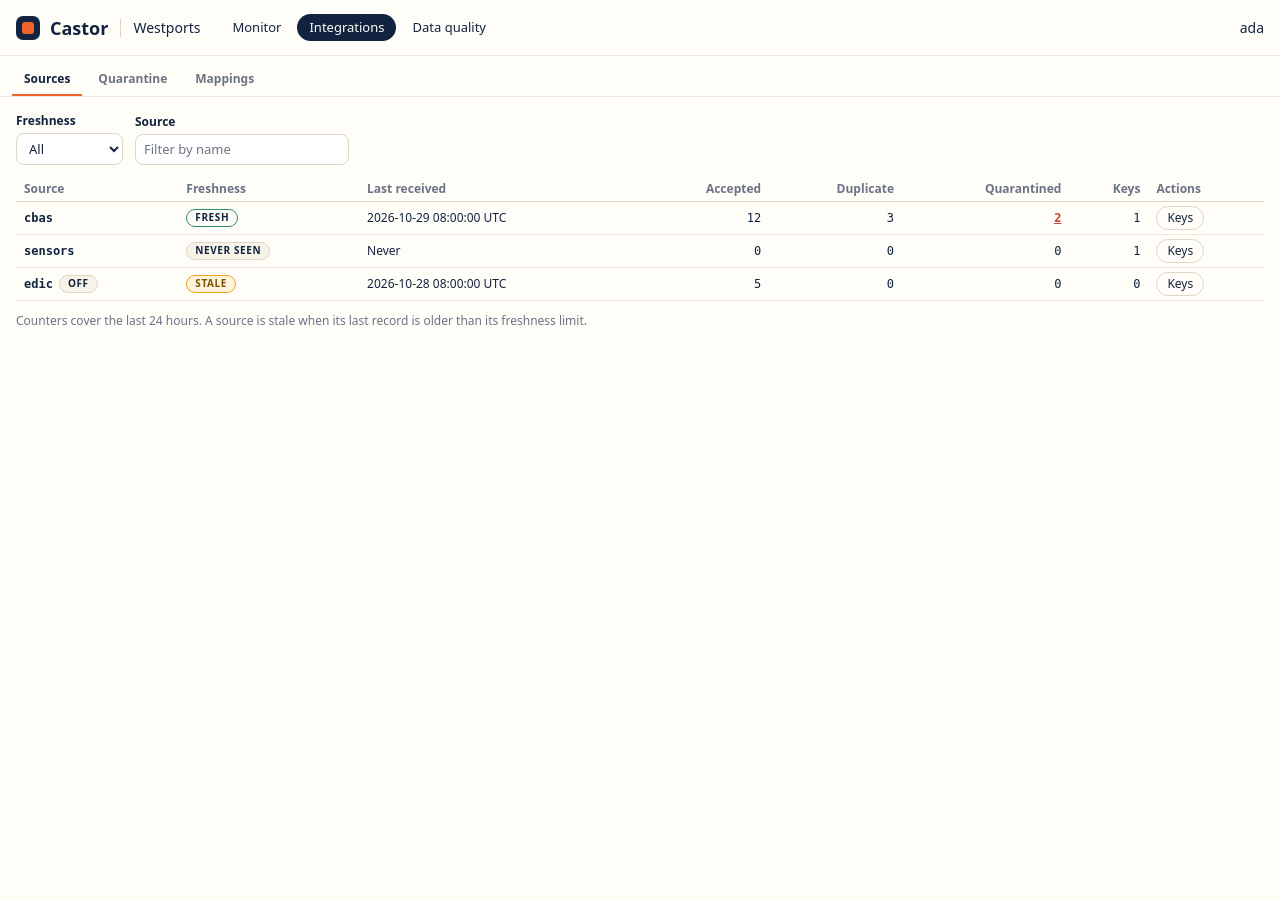
Test: Integrations page › Sources › creates a key and shows it once, after Create key
What coordinates should you click on to do the following:
click the button with aria-label "Keys of cbas"
I would click on:
 (1180, 218)
Its box is [1156,206,1204,230].
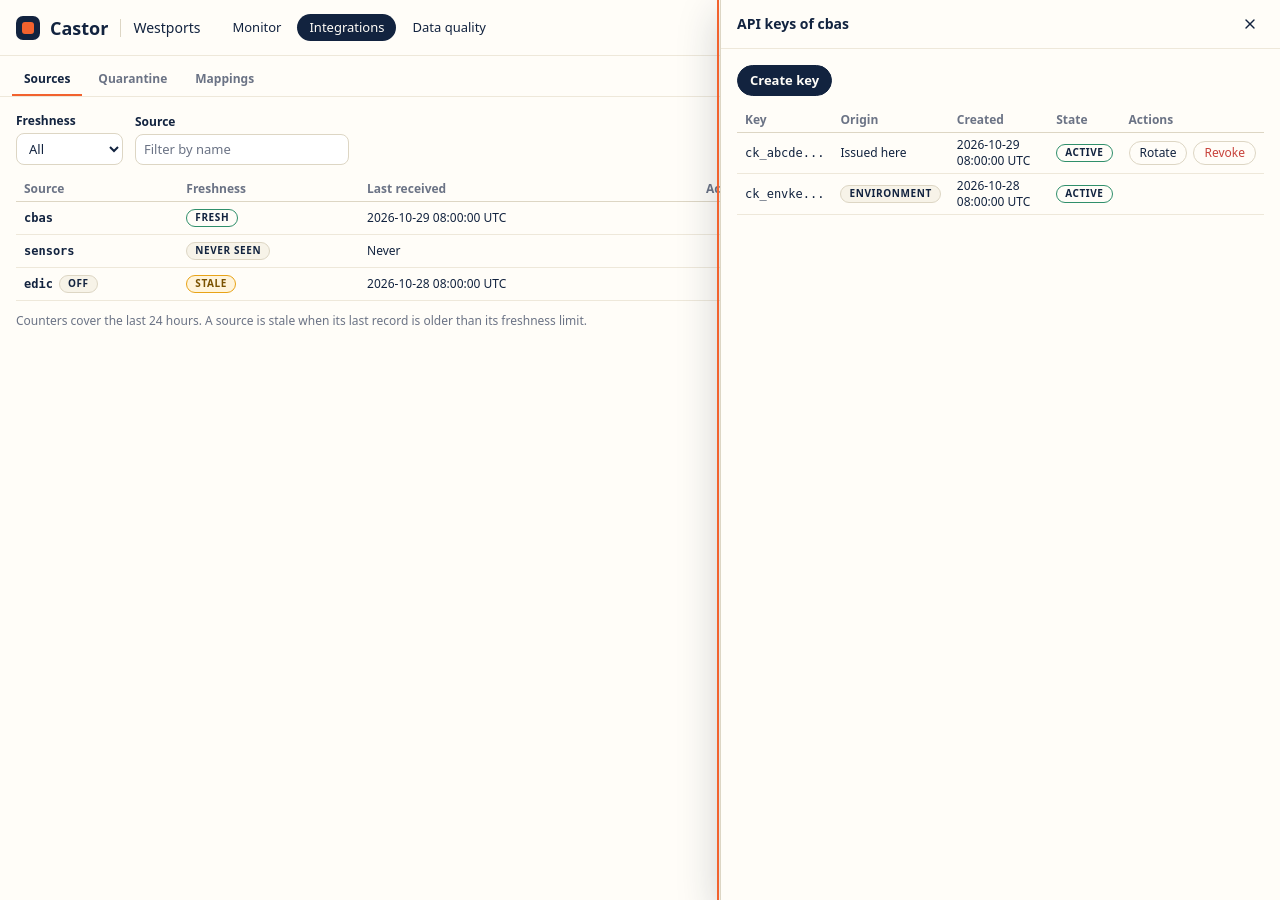
What coordinates should you click on to do the following:
click the button "Create key"
I would click on:
 (784, 80)
Its box is [737,65,832,96].
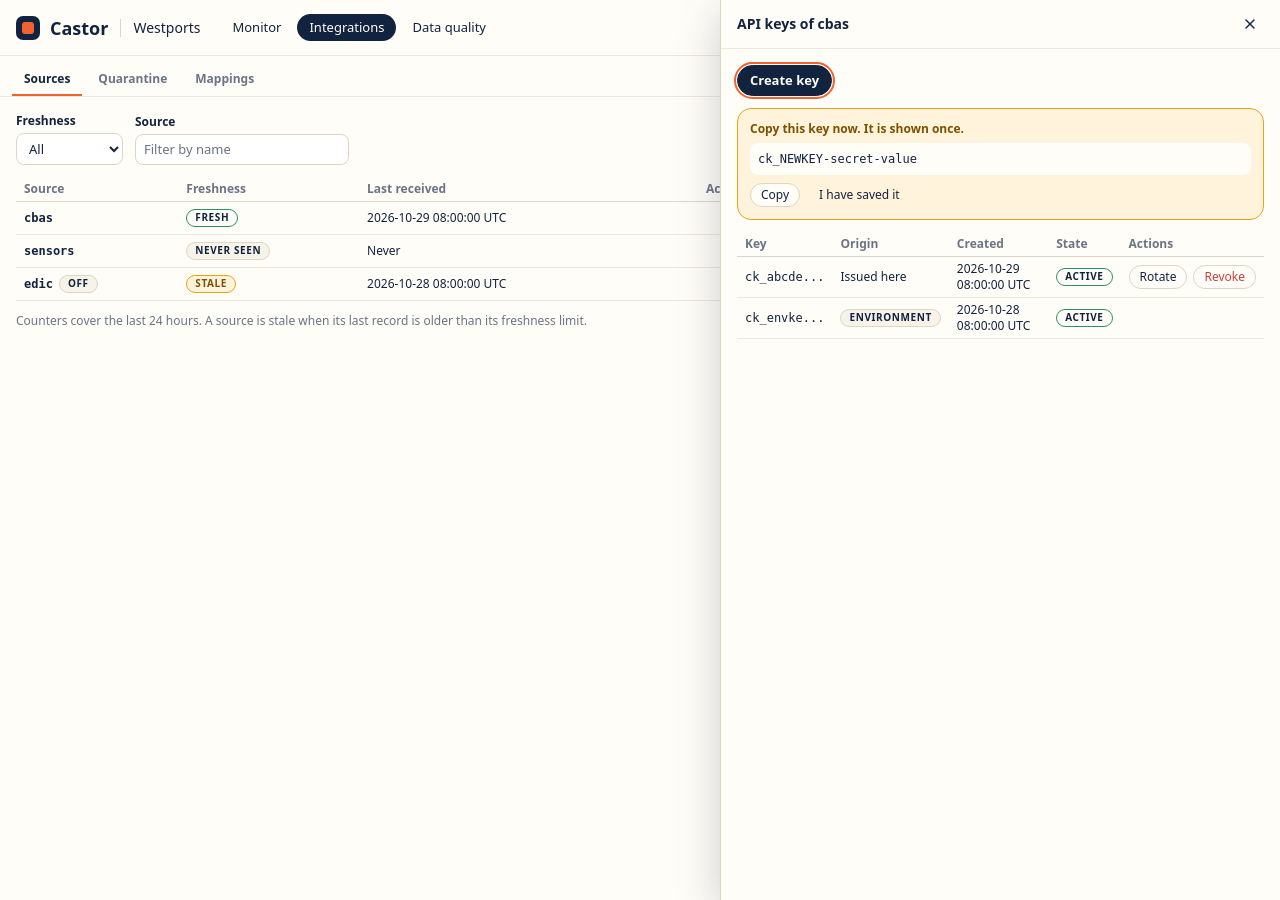
Check: the text with test id "new-key" reads "ck_NEWKEY-secret-value", box [758,152,917,166]
Closing the drawer drops the secret: it is not in the page any more
What coordinates should you click on to do the following:
click the button named "Close"
I would click on:
 (1250, 24)
Its box is [1236,10,1264,38].
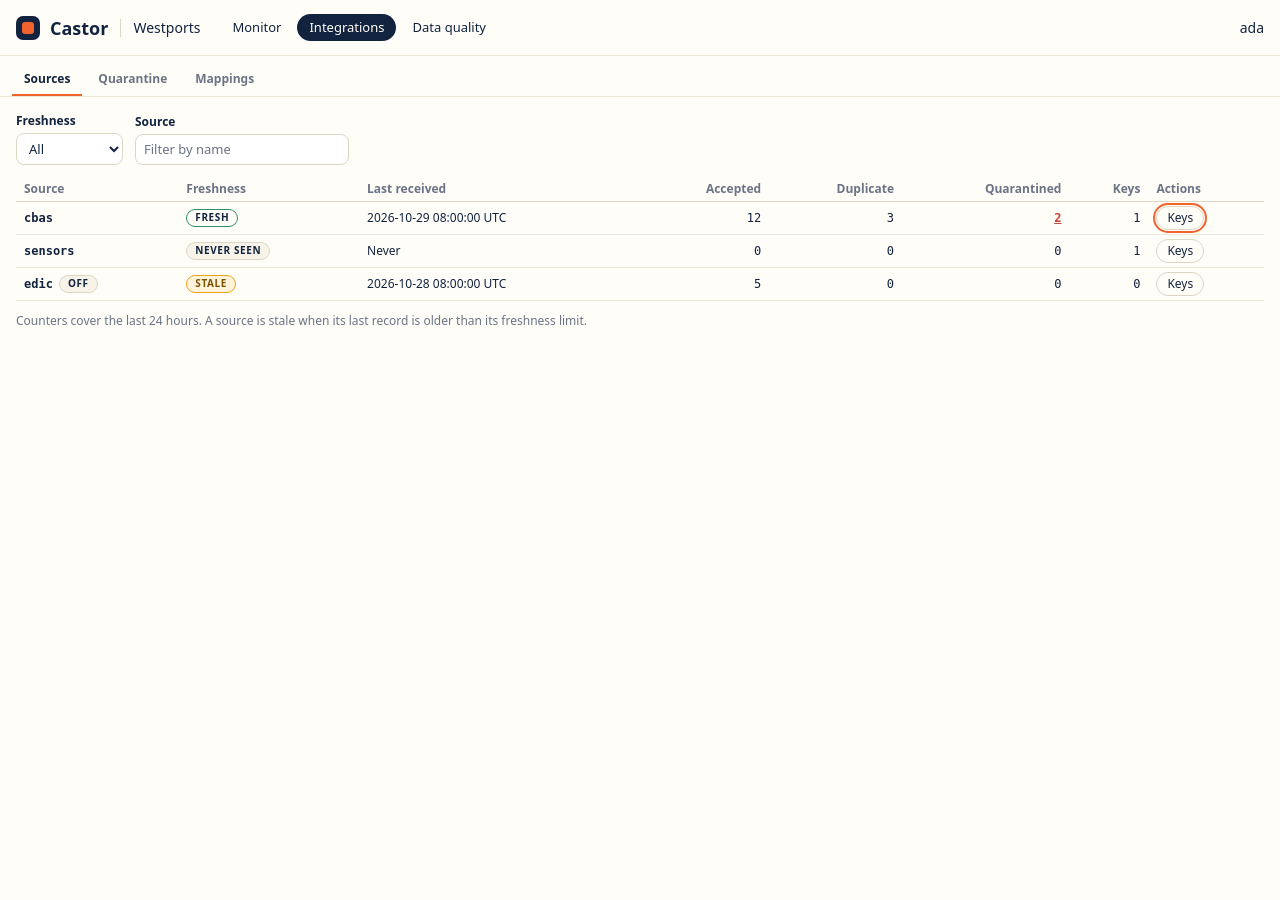
Check: the text "ck_NEWKEY-secret-value" is gone
